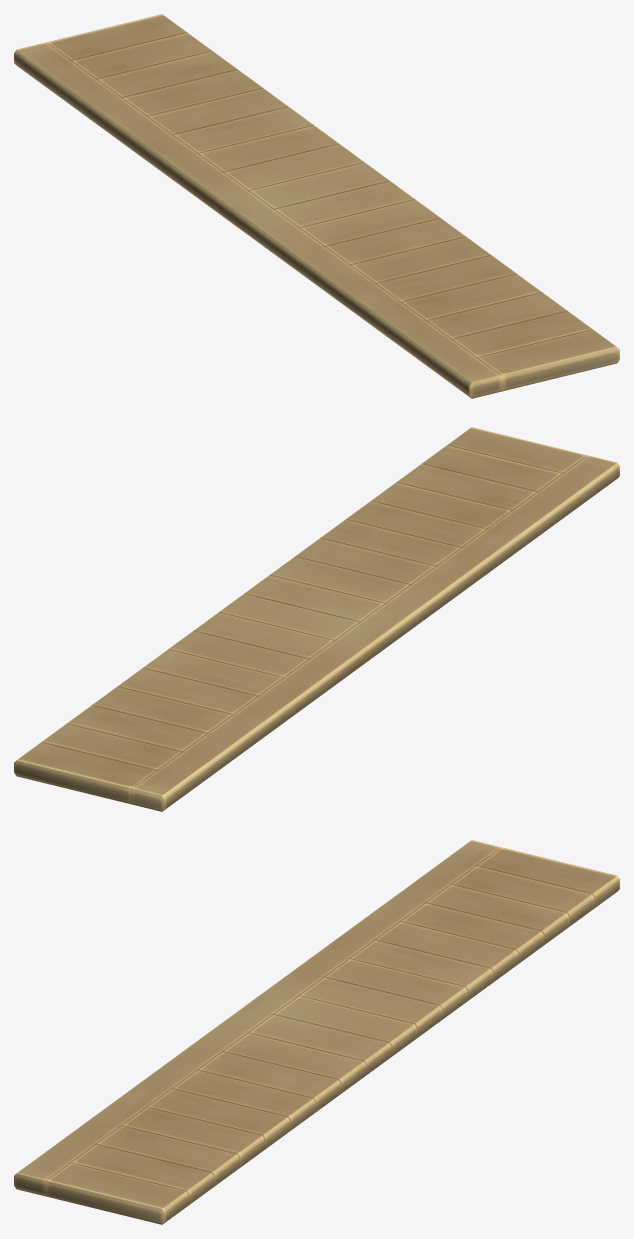
The model's file is mypeng_floor02.fbx.
The picture shows the model from 3 angles, top to bottom: view 1: azimuth 30°, elevation 25°; view 2: azimuth 150°, elevation 25°; view 3: azimuth 330°, elevation 25°; orthographic projection.
Parts seen in each view (by area): view 1: mypeng_floor02w; view 2: mypeng_floor02w; view 3: mypeng_floor02w.
Boxes of the visible parts, box(x1,y1,x2,y2) form: mypeng_floor02w: box(14, 14, 619, 398); mypeng_floor02w: box(14, 427, 619, 811); mypeng_floor02w: box(14, 840, 619, 1224).
Bounding box in the file's own units: 66.21 × 6.71 × 348.
Materials: 1 (1 with a texture image).
